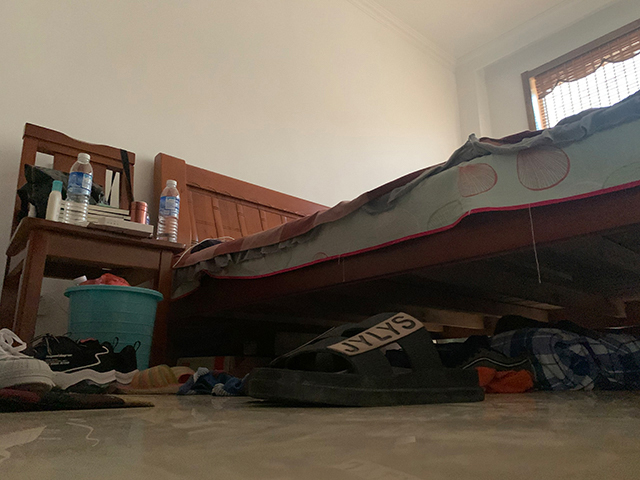bed: (150, 91, 640, 368)
slippers: (237, 310, 486, 408), (120, 363, 195, 396)
socks: (198, 366, 245, 396)
stool: (1, 122, 186, 373)
trashcan: (63, 284, 166, 372)
